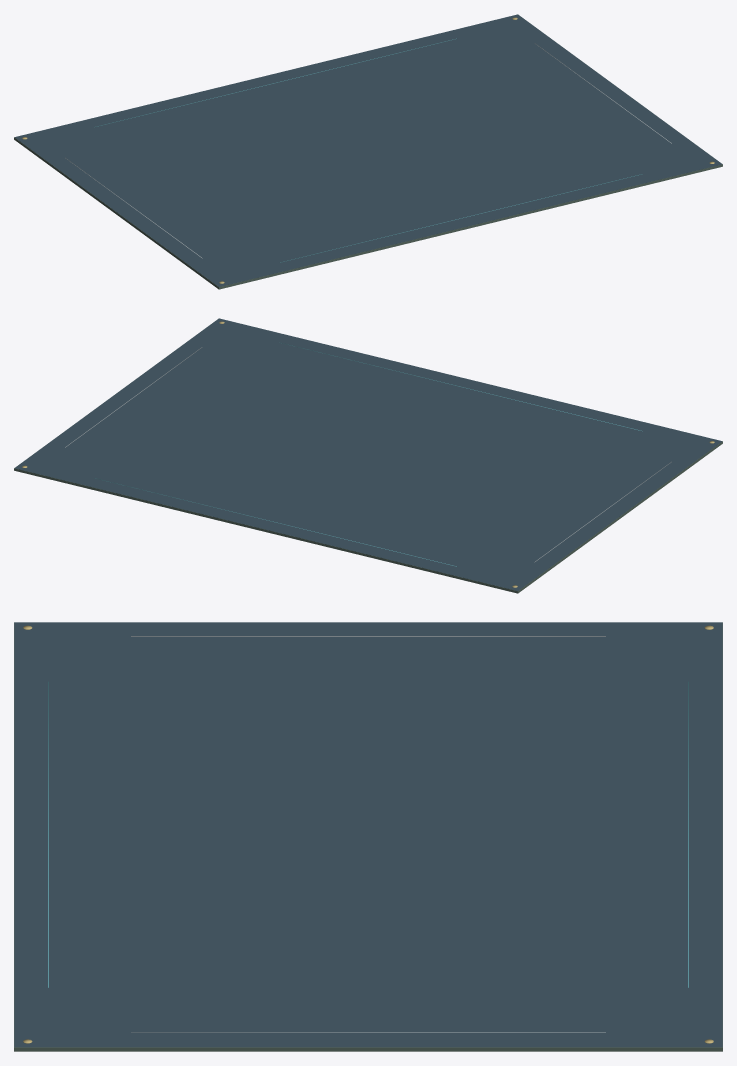
Rendered from 209_L116_PCB_Main.glb.
The picture shows the model from 3 angles, top to bottom: view 1: azimuth 30°, elevation 25°; view 2: azimuth 150°, elevation 25°; view 3: azimuth 270°, elevation 25°; orthographic projection. The views are drawn at different scales.
Visible parts, largest first — view 1: __PSMAT__PCB_Carbon, __PSMAT__FR4_Core, __PSMAT__Silkscreen_Cyan; view 2: __PSMAT__PCB_Carbon, __PSMAT__FR4_Core, __PSMAT__Silkscreen_Cyan; view 3: __PSMAT__PCB_Carbon, __PSMAT__FR4_Core, __PSMAT__Silkscreen_White.
Boxes of the visible parts, x1,y1,x2,y2 form: __PSMAT__PCB_Carbon: [14, 14, 722, 286]; __PSMAT__FR4_Core: [14, 23, 722, 289]; __PSMAT__Silkscreen_Cyan: [94, 38, 642, 262]; __PSMAT__PCB_Carbon: [14, 318, 722, 590]; __PSMAT__FR4_Core: [14, 327, 722, 593]; __PSMAT__Silkscreen_Cyan: [94, 342, 642, 566]; __PSMAT__PCB_Carbon: [14, 622, 722, 1047]; __PSMAT__FR4_Core: [14, 622, 722, 1051]; __PSMAT__Silkscreen_White: [131, 636, 605, 1032].
Size of the model in its own units: 0.44 by 0.00217 by 0.31.
